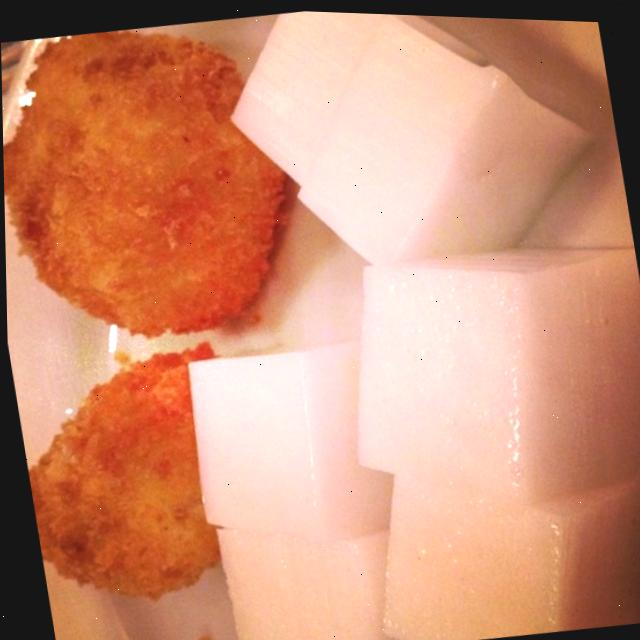蛋糕甜品: (63, 2, 640, 640)
